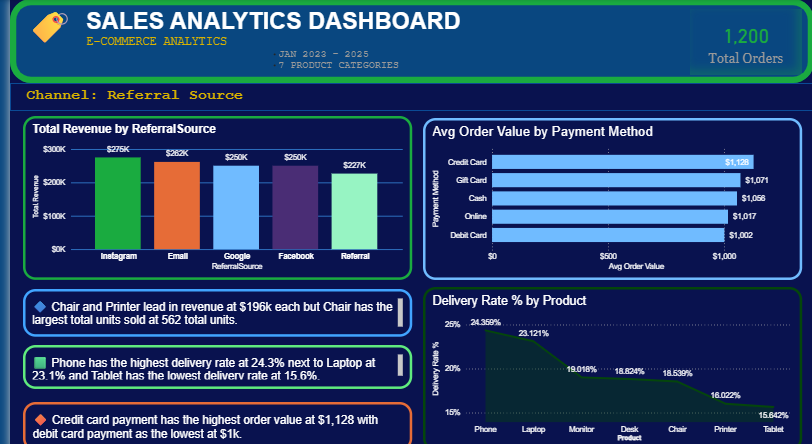

What the dashboard file says about the page in this screenshot:
{"tool":"powerbi","page":{"name":"Channel Dashboard","canvas":[1280,720],"ordinal":3},"visuals":[{"type":"shape","box":[0,0,1280.7,133.8],"z":0},{"type":"textbox","box":[116.3,9.6,619.6,117.9],"z":1000},{"type":"card","fields":{"Values":["Sheet1.Total Orders"]},"box":[1083.2,15.9,178.4,105.1],"z":2000},{"type":"shape","box":[0,133.8,1280.7,44.6],"z":3000},{"type":"textbox","box":[20.7,133.8,383.9,41.4],"z":4000},{"type":"clusteredColumnChart","fields":{"Category":["Sheet1.ReferralSource"],"Y":["Sheet1.Total Revenue"]},"box":[20.7,186.4,619.6,261.2],"z":5000},{"type":"areaChart","fields":{"Category":["Sheet1.Product"],"Y":["Sheet1.Delivery Rate %"]},"box":[657.9,458.8,603.7,261.2],"z":6000},{"type":"clusteredBarChart","fields":{"Category":["Sheet1.PaymentMethod"],"Y":["Sheet1.Avg Order Value"]},"box":[657.9,189.6,603.7,258.1],"z":7000},{"type":"textbox","box":[20.7,461.9,619.6,76.5],"z":8000},{"type":"textbox","box":[20.7,551.2,619.6,70.1],"z":9000},{"type":"textbox","box":[20.7,641.9,619.6,78.1],"z":10000},{"type":"textbox","box":[20.7,0,92.4,105.1],"z":11000}]}

Visuals, with their boxes in screenshot pixels (x1, y1, x2, y2), scaled from the page's 1280x720 canvas onto the 812x444 screenshot:
shape: l=0, t=0, r=811, b=83
textbox: l=74, t=6, r=467, b=79
card - Sheet1.Total Orders: l=687, t=10, r=800, b=75
shape: l=0, t=83, r=811, b=110
textbox: l=13, t=83, r=257, b=108
clusteredColumnChart - Sheet1.ReferralSource x Sheet1.Total Revenue: l=13, t=115, r=406, b=276
areaChart - Sheet1.Product x Sheet1.Delivery Rate %: l=417, t=283, r=800, b=443
clusteredBarChart - Sheet1.PaymentMethod x Sheet1.Avg Order Value: l=417, t=117, r=800, b=276
textbox: l=13, t=285, r=406, b=332
textbox: l=13, t=340, r=406, b=383
textbox: l=13, t=396, r=406, b=443
textbox: l=13, t=0, r=72, b=65
